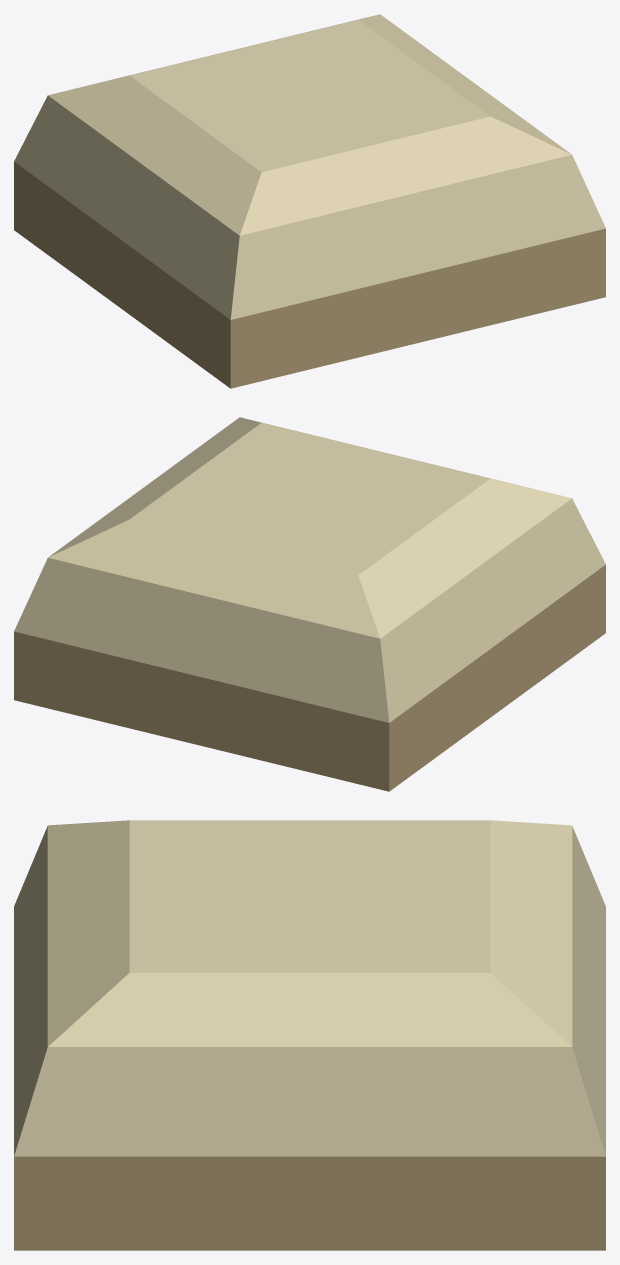
File: StreetCordSmall_01.glb
3 renders of one model, top to bottom at view 1: azimuth 30°, elevation 25°; view 2: azimuth 150°, elevation 25°; view 3: azimuth 270°, elevation 25°, orthographic. The views are drawn at different scales.
Parts seen in each view (by area): view 1: StreetCordSmall_01; view 2: StreetCordSmall_01; view 3: StreetCordSmall_01.
Part boxes in pixels (x1,y1,x2,y2): StreetCordSmall_01: (14,14,605,388); StreetCordSmall_01: (14,417,605,791); StreetCordSmall_01: (14,820,605,1250).
Size of what is drawn, in the model's own units: 0.3844 by 0.1641 by 0.3844.
Materials: 1 (1 with a texture image).
